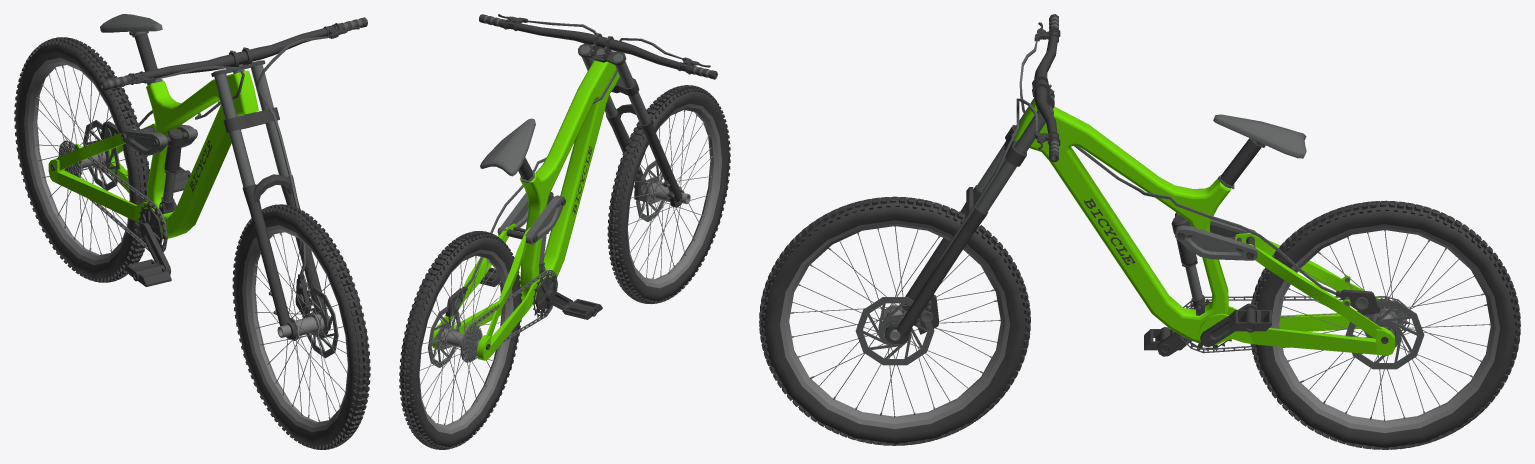
Rendered from smoky_peach.glb.
3 renders of one model, left to right at view 1: azimuth 30°, elevation 25°; view 2: azimuth 150°, elevation 25°; view 3: azimuth 270°, elevation 25°, orthographic. The views are drawn at different scales.
Visible parts, largest first — view 1: Steer_Textures_0, Wheel_F_Textures_0, Body_Mat Body_0, Wheel_B_Textures_0, Wheel_F_Mat Wheel_0, Body_Textures_0, Wheel_B_Mat Wheel_0, Pedal_Textures_0, Pedal_R_Textures_0; view 2: Body_Mat Body_0, Wheel_B_Textures_0, Wheel_F_Textures_0, Steer_Textures_0, Body_Textures_0, Wheel_F_Mat Wheel_0, Wheel_B_Mat Wheel_0, Pedal_Textures_0, Pedal_R_Textures_0; view 3: Body_Mat Body_0, Wheel_F_Textures_0, Wheel_B_Textures_0, Steer_Textures_0, Wheel_F_Mat Wheel_0, Wheel_B_Mat Wheel_0, Body_Textures_0, Pedal_Textures_0, Pedal_L_Textures_0.
Boxes of the visible parts, left/top/right/bottom form: Steer_Textures_0: left=100, top=17, right=367, bottom=339; Wheel_F_Textures_0: left=232, top=204, right=370, bottom=449; Body_Mat Body_0: left=48, top=70, right=258, bottom=238; Wheel_B_Textures_0: left=14, top=37, right=149, bottom=282; Wheel_F_Mat Wheel_0: left=242, top=225, right=348, bottom=432; Body_Textures_0: left=50, top=14, right=311, bottom=318; Wheel_B_Mat Wheel_0: left=24, top=58, right=130, bottom=264; Pedal_Textures_0: left=138, top=200, right=176, bottom=274; Pedal_R_Textures_0: left=126, top=259, right=171, bottom=286; Body_Mat Body_0: left=432, top=60, right=619, bottom=360; Wheel_B_Textures_0: left=399, top=231, right=522, bottom=449; Wheel_F_Textures_0: left=607, top=85, right=730, bottom=304; Steer_Textures_0: left=465, top=14, right=717, bottom=287; Body_Textures_0: left=445, top=118, right=648, bottom=362; Wheel_F_Mat Wheel_0: left=627, top=103, right=721, bottom=288; Wheel_B_Mat Wheel_0: left=419, top=249, right=513, bottom=434; Pedal_Textures_0: left=498, top=271, right=572, bottom=318; Pedal_R_Textures_0: left=562, top=299, right=602, bottom=319; Body_Mat Body_0: left=1014, top=101, right=1395, bottom=355; Wheel_F_Textures_0: left=759, top=196, right=1030, bottom=445; Wheel_B_Textures_0: left=1250, top=200, right=1520, bottom=449; Steer_Textures_0: left=885, top=14, right=1336, bottom=343; Wheel_F_Mat Wheel_0: left=780, top=220, right=1010, bottom=428; Wheel_B_Mat Wheel_0: left=1270, top=224, right=1499, bottom=432; Body_Textures_0: left=917, top=114, right=1409, bottom=353; Pedal_Textures_0: left=1157, top=299, right=1258, bottom=356; Pedal_L_Textures_0: left=1229, top=307, right=1271, bottom=332.
Size of the model in its own units: 0.5852 by 0.7199 by 1.35.
3 materials, 1 textured.
